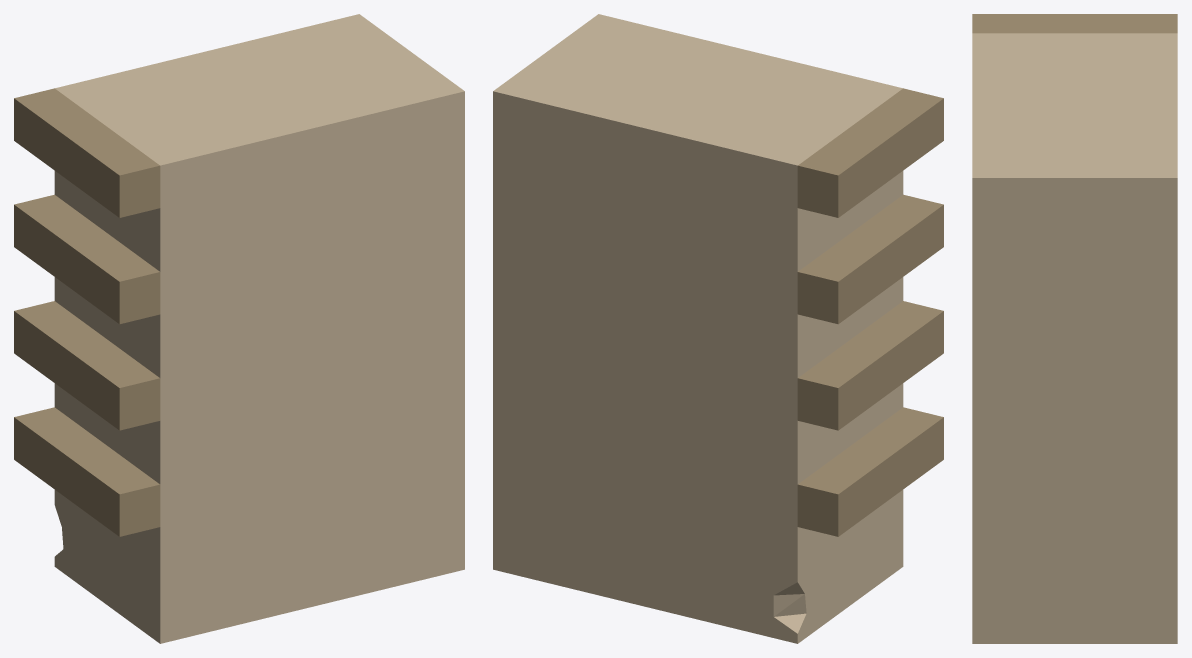
File: LightSandStoneDoorLargeLeftWithTeeth1.fbx
3 renders of one model, left to right at view 1: azimuth 30°, elevation 25°; view 2: azimuth 150°, elevation 25°; view 3: azimuth 270°, elevation 25°, orthographic. The views are drawn at different scales.
Visible parts, largest first — view 1: LightSandStoneDoorLargeLeftWithTeeth1, D_GapDoor2_002, D_GapDoor2_003, D_GapDoor2_004, D_GapDoor2_001; view 2: LightSandStoneDoorLargeLeftWithTeeth1, D_GapDoor2_002, D_GapDoor2_003, D_GapDoor2_004, D_GapDoor2_001; view 3: LightSandStoneDoorLargeLeftWithTeeth1, D_GapDoor2_001.
Part boxes in pixels (x1,y1,x2,y2): LightSandStoneDoorLargeLeftWithTeeth1: [54, 14, 464, 643]; D_GapDoor2_002: [14, 194, 160, 324]; D_GapDoor2_003: [14, 301, 160, 430]; D_GapDoor2_004: [14, 407, 160, 536]; D_GapDoor2_001: [14, 88, 160, 217]; LightSandStoneDoorLargeLeftWithTeeth1: [493, 14, 903, 643]; D_GapDoor2_002: [797, 194, 943, 324]; D_GapDoor2_003: [797, 301, 943, 430]; D_GapDoor2_004: [797, 407, 943, 536]; D_GapDoor2_001: [797, 88, 943, 217]; LightSandStoneDoorLargeLeftWithTeeth1: [972, 33, 1177, 643]; D_GapDoor2_001: [972, 14, 1177, 33].
Size of the model in its own units: 340 by 450 by 180.
